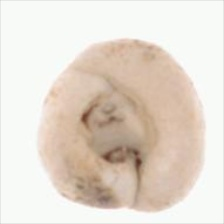L3: (78, 87, 157, 166)
L4: (39, 38, 205, 213)
